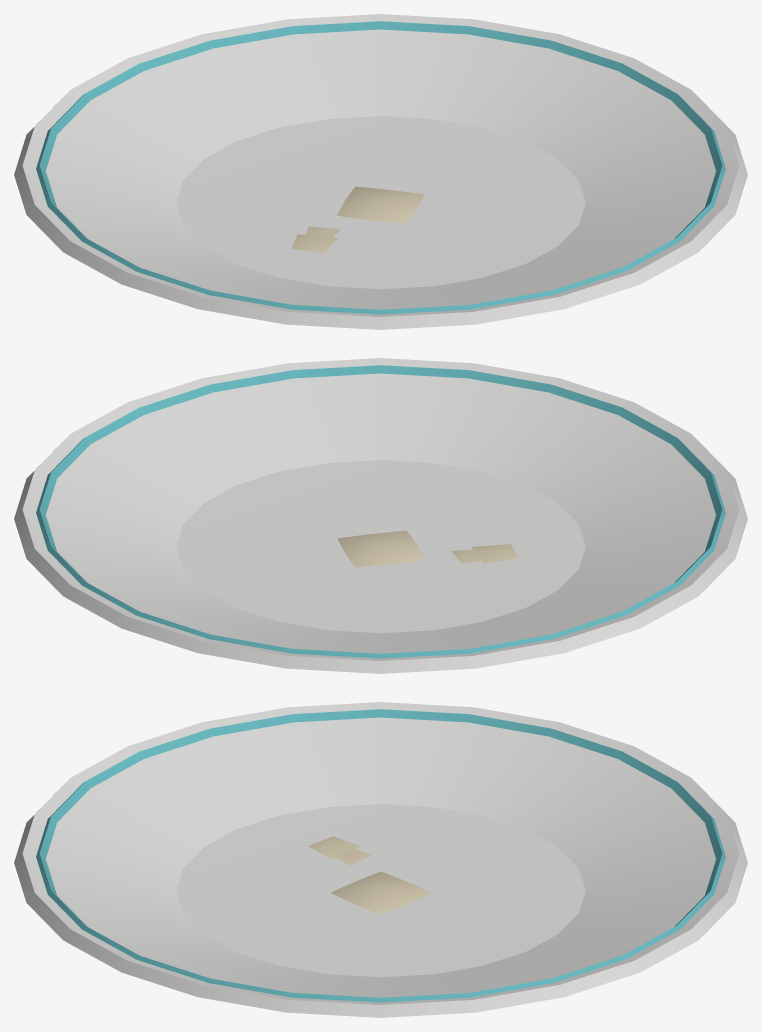
File: kr_plate_dirty.glb
3 renders of one model, top to bottom at view 1: azimuth 30°, elevation 25°; view 2: azimuth 150°, elevation 25°; view 3: azimuth 270°, elevation 25°, orthographic.
Visible parts, largest first — view 1: vc_m0_r2, vc_m0_r4, vc_m0_r8; view 2: vc_m0_r2, vc_m0_r4, vc_m0_r8; view 3: vc_m0_r2, vc_m0_r4, vc_m0_r8.
Part boxes in pixels (x1,y1,x2,y2): vc_m0_r2: [14, 14, 747, 329]; vc_m0_r4: [36, 21, 725, 314]; vc_m0_r8: [291, 186, 424, 252]; vc_m0_r2: [14, 358, 747, 673]; vc_m0_r4: [36, 365, 725, 658]; vc_m0_r8: [337, 530, 518, 567]; vc_m0_r2: [14, 702, 747, 1017]; vc_m0_r4: [36, 709, 725, 1002]; vc_m0_r8: [308, 836, 430, 913].
Size of the model in its own units: 0.43 by 0.0446 by 0.43.
